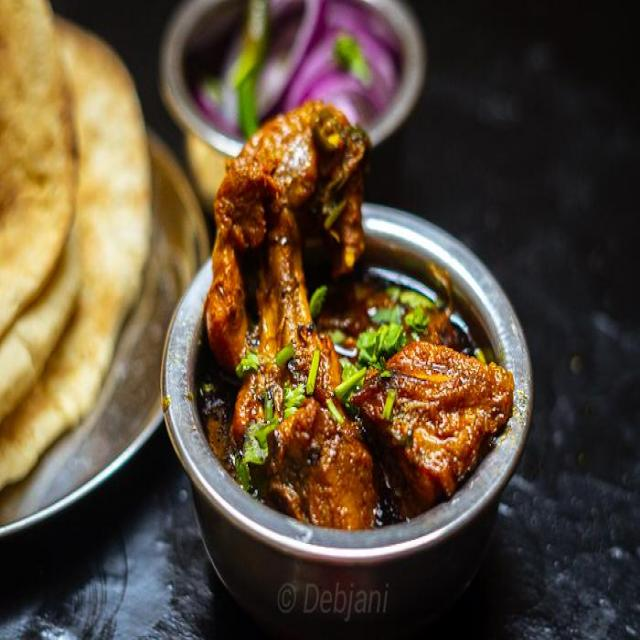chicken: (201, 102, 490, 526)
roti: (0, 0, 189, 460)
